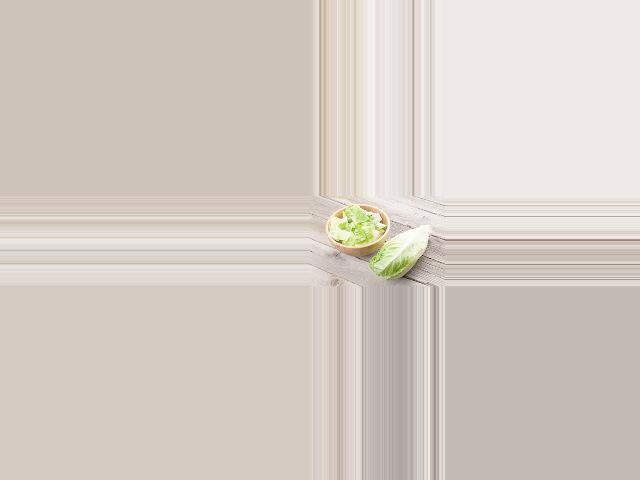lettuce: (369, 224, 429, 281)
